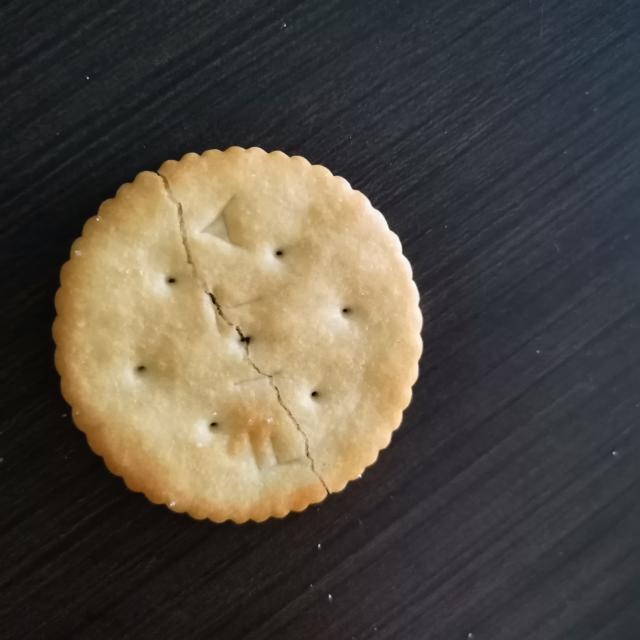Fracture: (136, 156, 353, 510)
